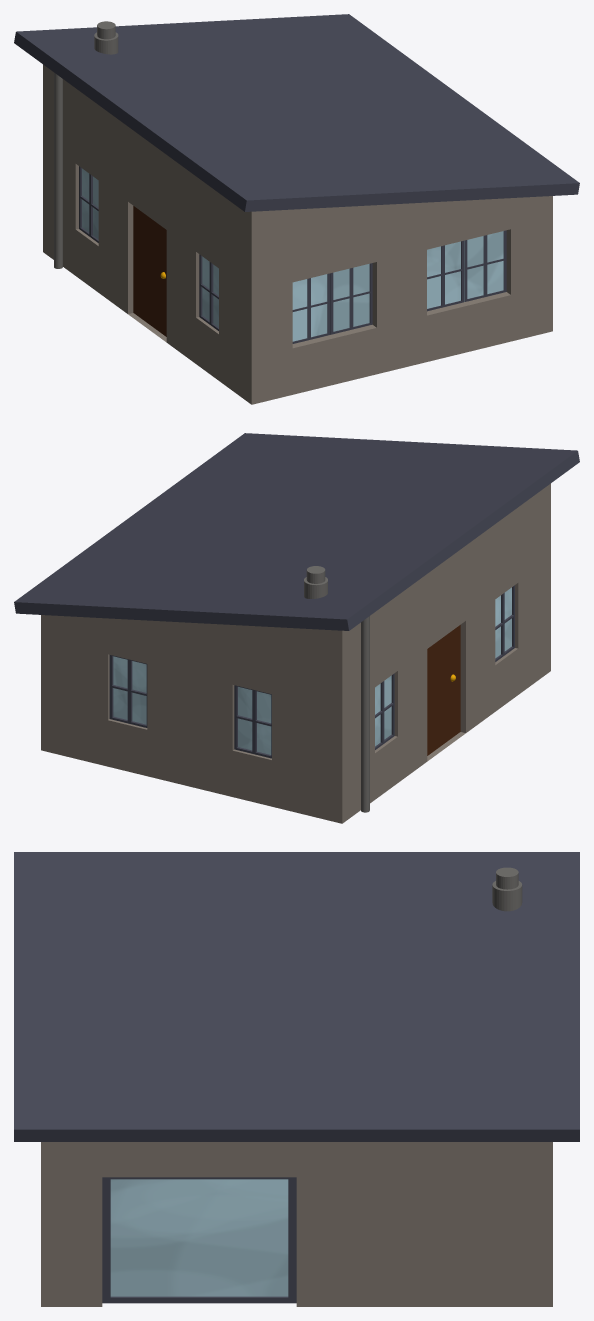
Rendered from TPCS_House_003_V1.fbx.
The picture shows the model from 3 angles, top to bottom: view 1: azimuth 30°, elevation 25°; view 2: azimuth 150°, elevation 25°; view 3: azimuth 270°, elevation 25°; orthographic projection. The views are drawn at different scales.
Parts seen in each view (by area): view 1: Cube.092; view 2: Cube.092; view 3: Cube.092.
Part boxes in pixels (x1=…): Cube.092: x1=14, y1=14, x2=579, y2=404; Cube.092: x1=14, y1=433, x2=579, y2=823; Cube.092: x1=14, y1=852, x2=579, y2=1306.
Size of the model in its own units: 556 by 364 by 664.
